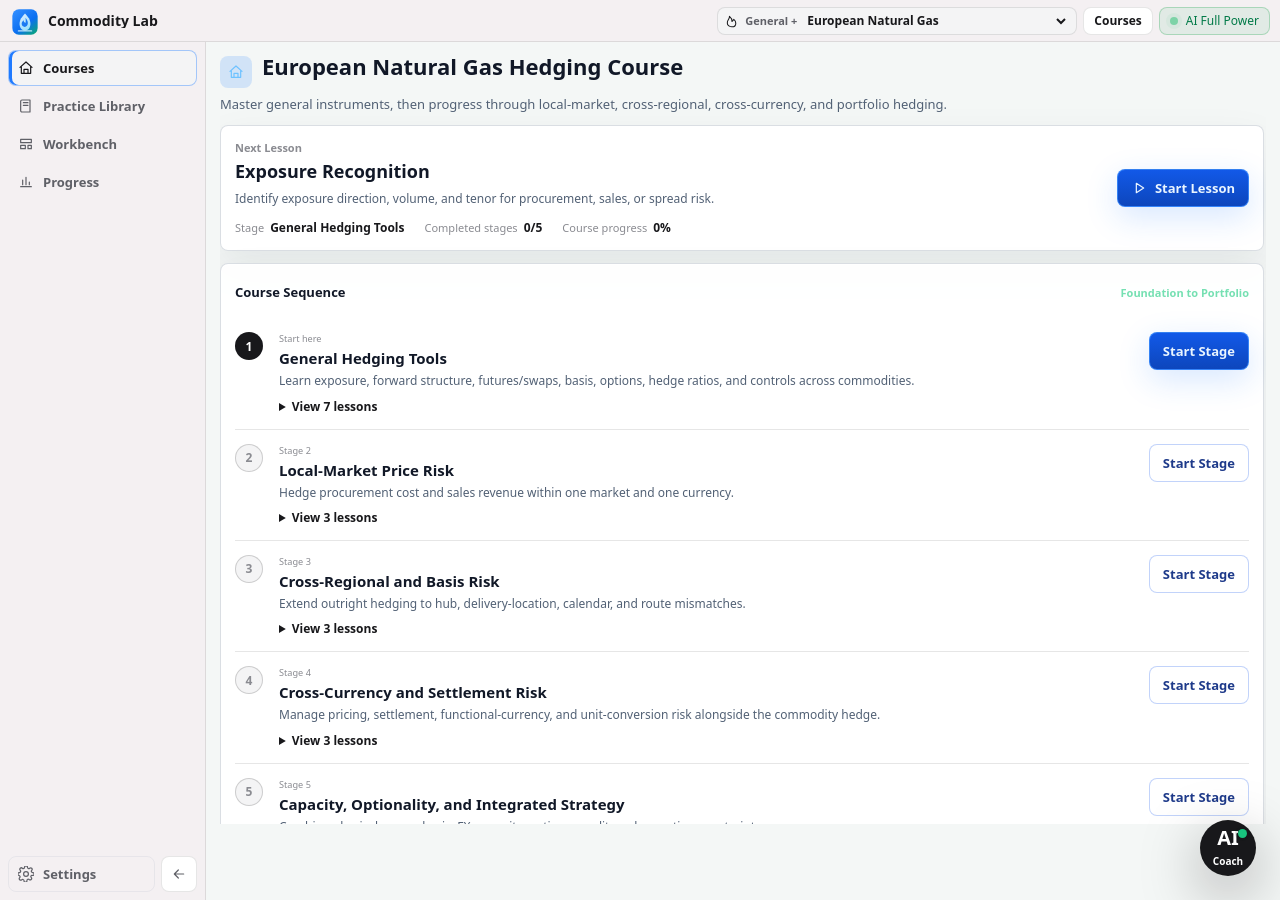
Test: Commodity Lab shell › lets the floating assistant submit and locally score the current strategy
Expected: the text "AI Full Power" is shown, [1186,12,1259,29]
Click the button "Workbench" at (102,144), box [8,126,197,162]
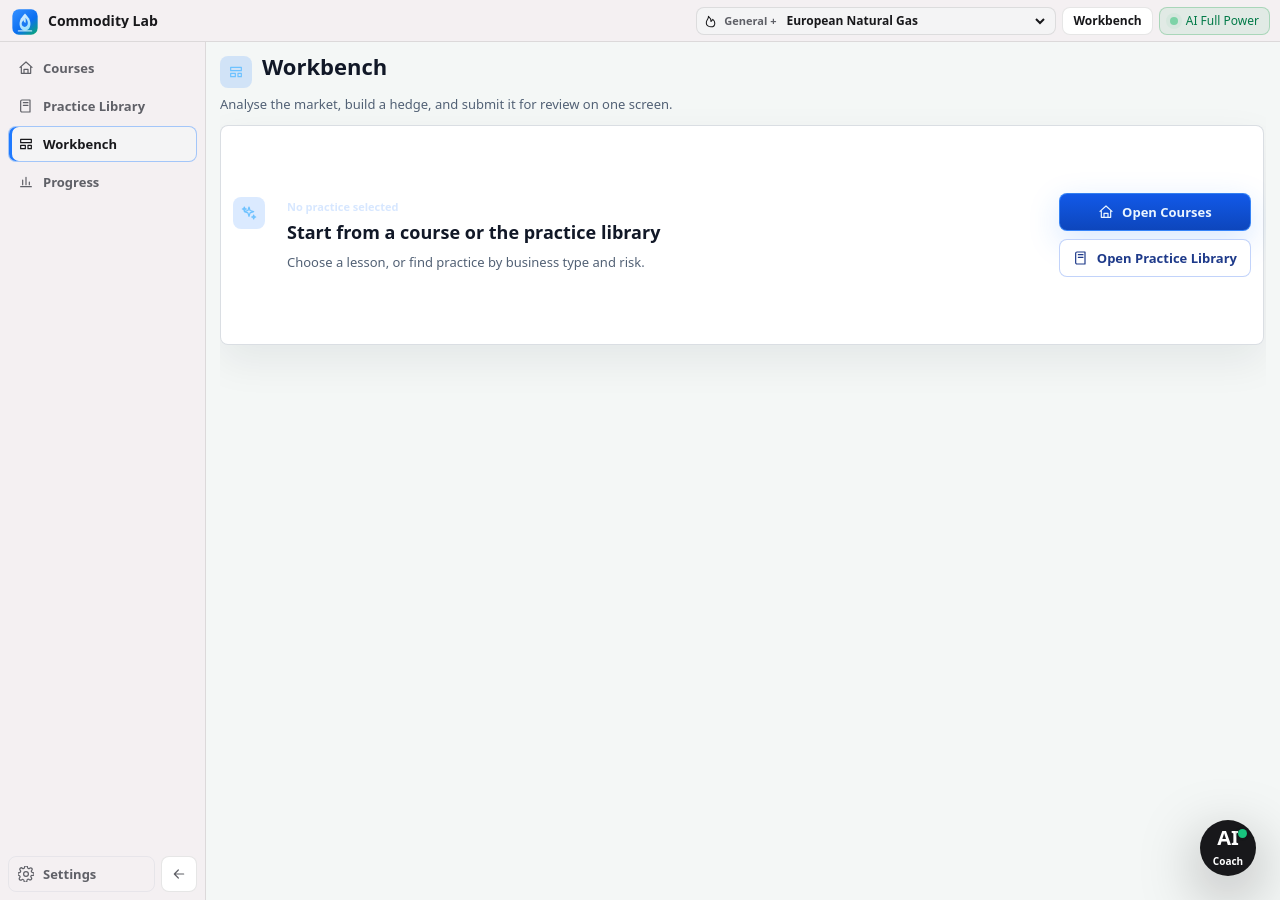
Click the button with aria-label "Live assistant" at (1228,848), box [1200,820,1256,876]
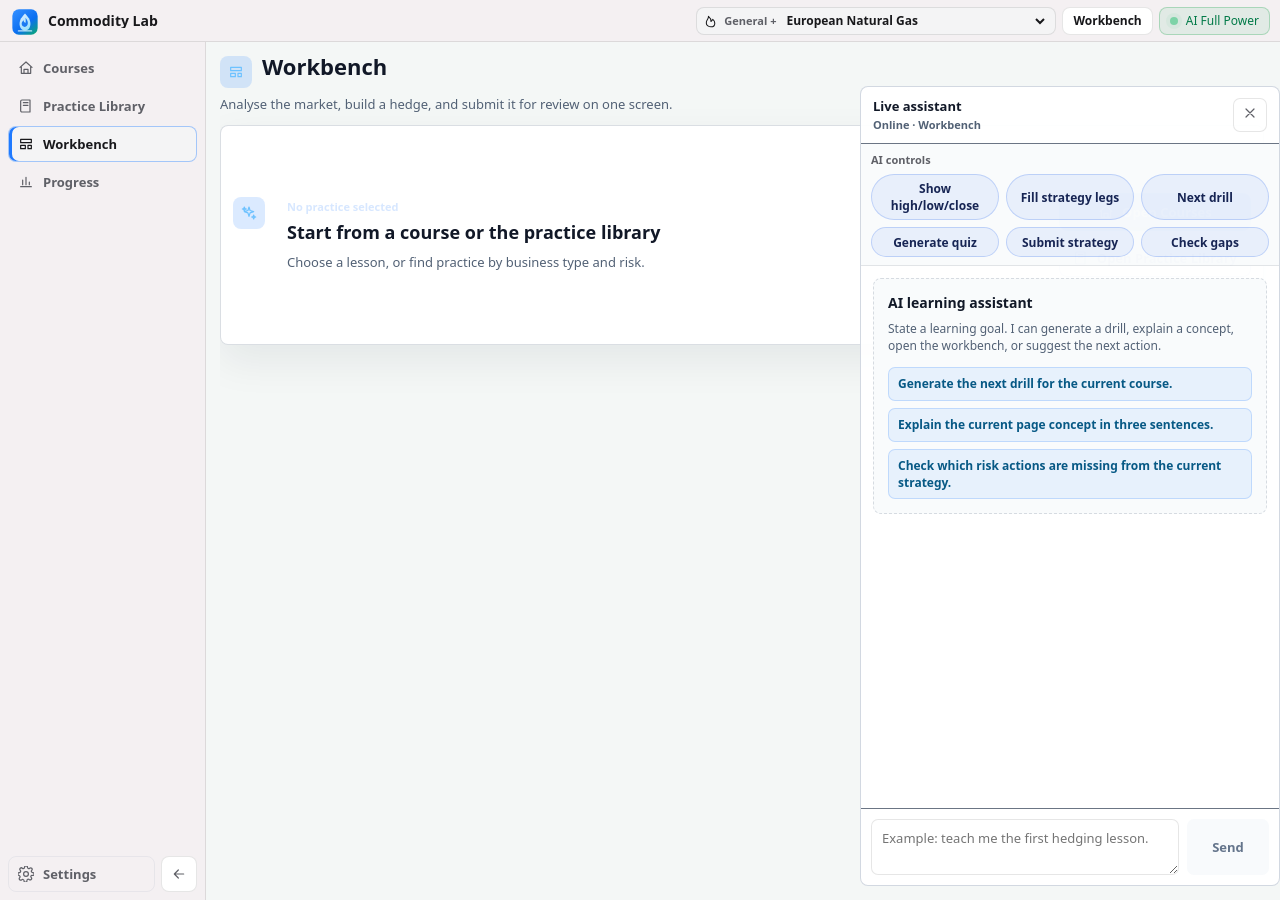
Click the button "Submit strategy" at (1070,242), box [1006,227,1134,257]
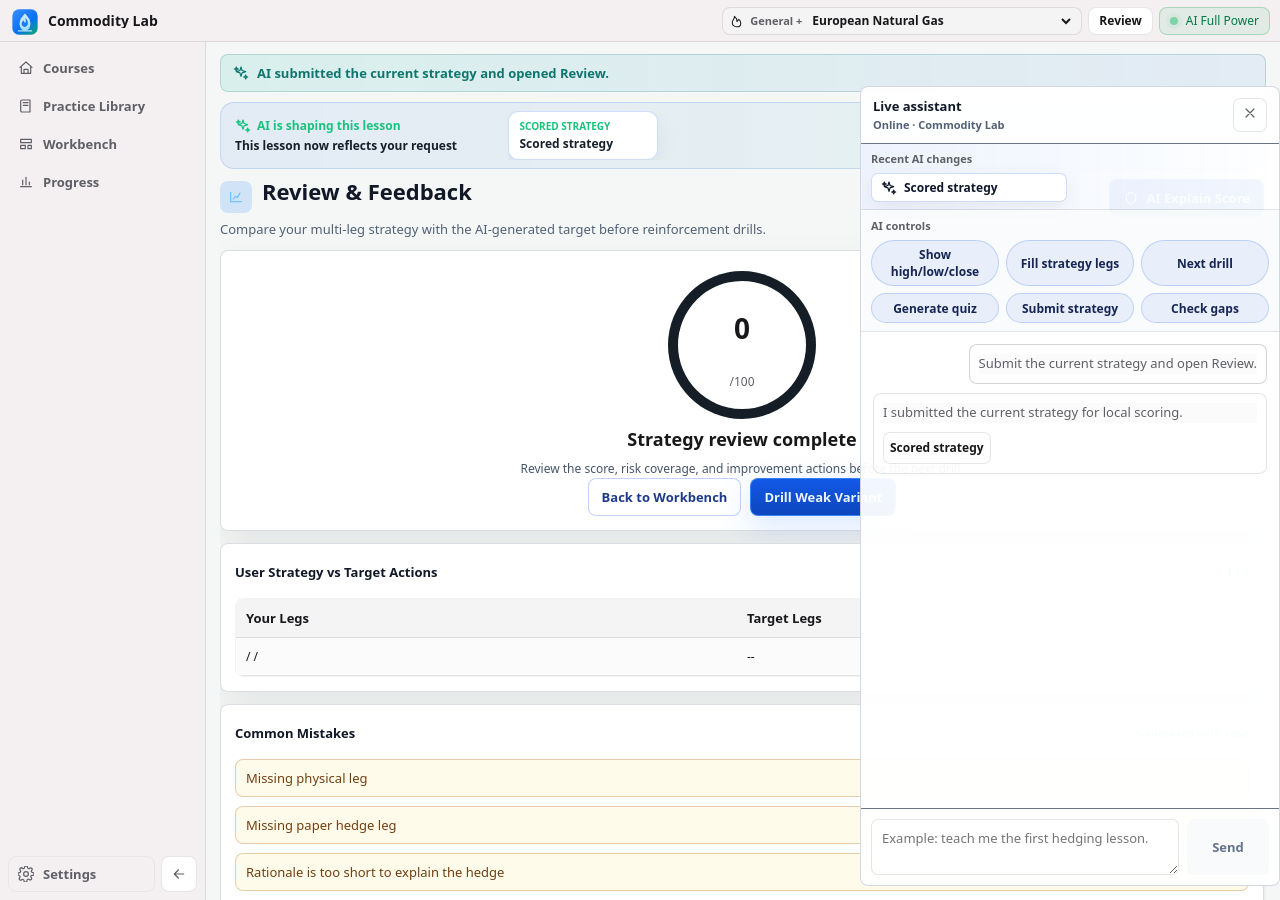
Expected: the heading "Strategy review complete" is shown, [627,427,857,451]
Expected: the text "User Strategy vs Target Actions" is shown, [235,563,438,581]
Expected: the text "This lesson now reflects your request" is shown, [235,137,492,154]
